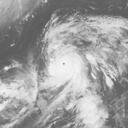cyclone: (46, 46, 82, 85)
